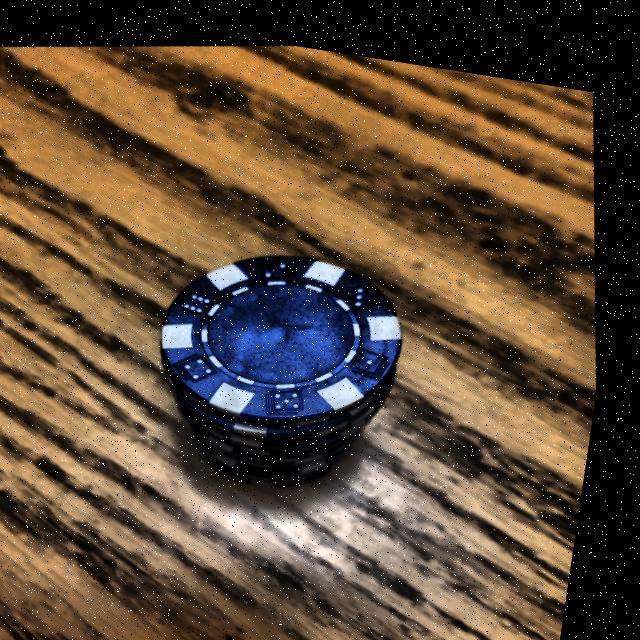Chip: (112, 187, 467, 519)
